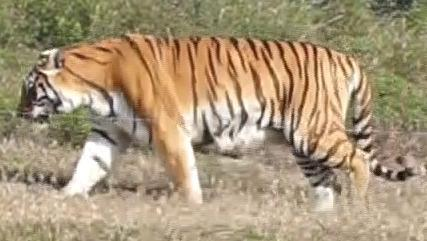tiger: (22, 34, 415, 210)
